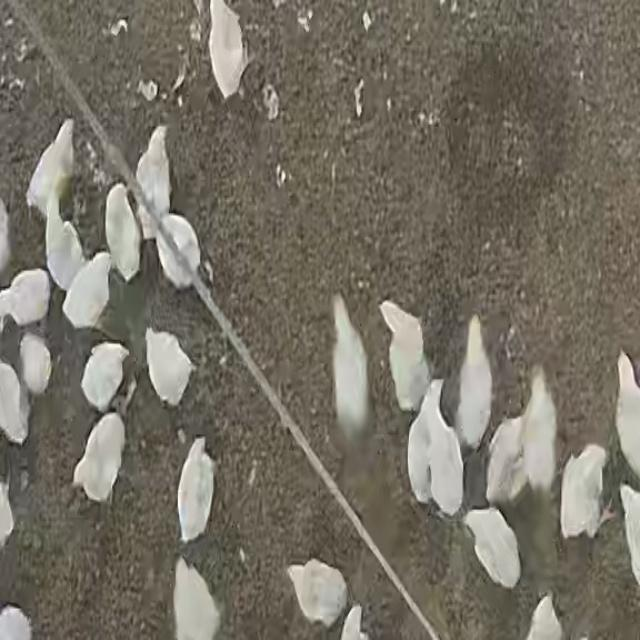chicken: (408, 381, 467, 517), (328, 293, 375, 437), (381, 298, 430, 414), (455, 312, 495, 451), (142, 326, 203, 416), (520, 369, 560, 500), (461, 508, 522, 590), (558, 445, 611, 539), (72, 413, 127, 503), (26, 118, 76, 217), (72, 339, 132, 416), (285, 559, 349, 629), (176, 438, 217, 542), (172, 556, 222, 640), (61, 254, 114, 332), (484, 413, 527, 507), (207, 1, 248, 99), (154, 212, 204, 292), (44, 194, 84, 292), (103, 180, 142, 279), (135, 126, 171, 229), (18, 333, 53, 399)
